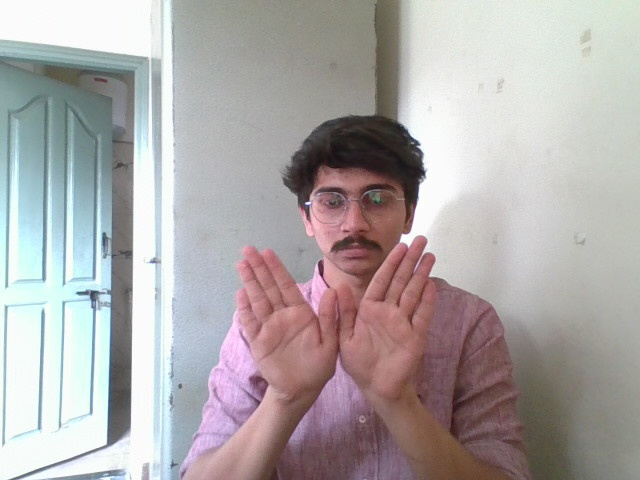hug: (232, 229, 442, 388)
